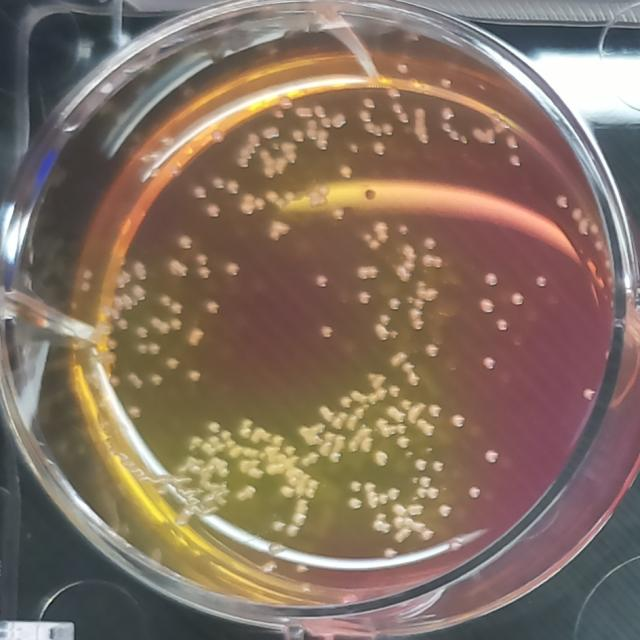StaphyloPositive: (282, 463, 322, 499), (394, 243, 418, 284), (226, 439, 264, 459), (349, 424, 374, 454), (299, 421, 325, 448), (268, 218, 292, 242), (415, 280, 441, 302), (266, 446, 285, 476), (351, 389, 386, 405), (239, 459, 265, 480), (203, 436, 226, 458), (371, 512, 392, 536), (421, 253, 447, 272), (208, 458, 232, 478), (406, 400, 426, 424), (365, 370, 388, 390), (186, 324, 205, 348), (364, 480, 379, 510), (355, 262, 380, 280), (236, 483, 258, 503), (408, 308, 425, 333), (324, 430, 346, 449), (373, 220, 390, 244), (416, 418, 436, 437), (482, 446, 500, 467), (424, 340, 442, 360), (480, 353, 498, 373), (389, 350, 409, 368), (385, 405, 405, 423), (372, 449, 390, 468), (223, 260, 241, 279), (478, 296, 497, 314), (493, 316, 512, 334), (302, 451, 320, 469), (532, 272, 550, 290), (204, 298, 221, 316), (466, 484, 484, 501), (422, 234, 439, 252), (185, 367, 203, 384), (250, 426, 266, 445), (413, 456, 430, 473), (450, 412, 467, 429), (427, 402, 443, 420), (430, 457, 446, 475), (483, 270, 499, 288), (509, 290, 527, 306), (164, 356, 180, 372), (426, 486, 441, 503), (357, 289, 372, 306), (407, 296, 426, 309), (418, 474, 434, 489), (387, 296, 403, 311), (395, 434, 410, 450), (149, 372, 164, 388), (169, 316, 184, 332), (318, 441, 333, 456), (408, 372, 422, 388), (387, 485, 401, 501), (348, 496, 362, 512), (328, 450, 344, 464), (283, 443, 297, 458), (240, 415, 255, 429), (271, 432, 285, 447), (338, 395, 353, 409), (349, 478, 362, 494), (387, 384, 401, 398), (403, 360, 416, 375), (207, 419, 220, 434), (237, 428, 253, 440), (170, 301, 183, 315), (220, 428, 233, 441), (416, 486, 429, 498), (159, 293, 171, 306)
